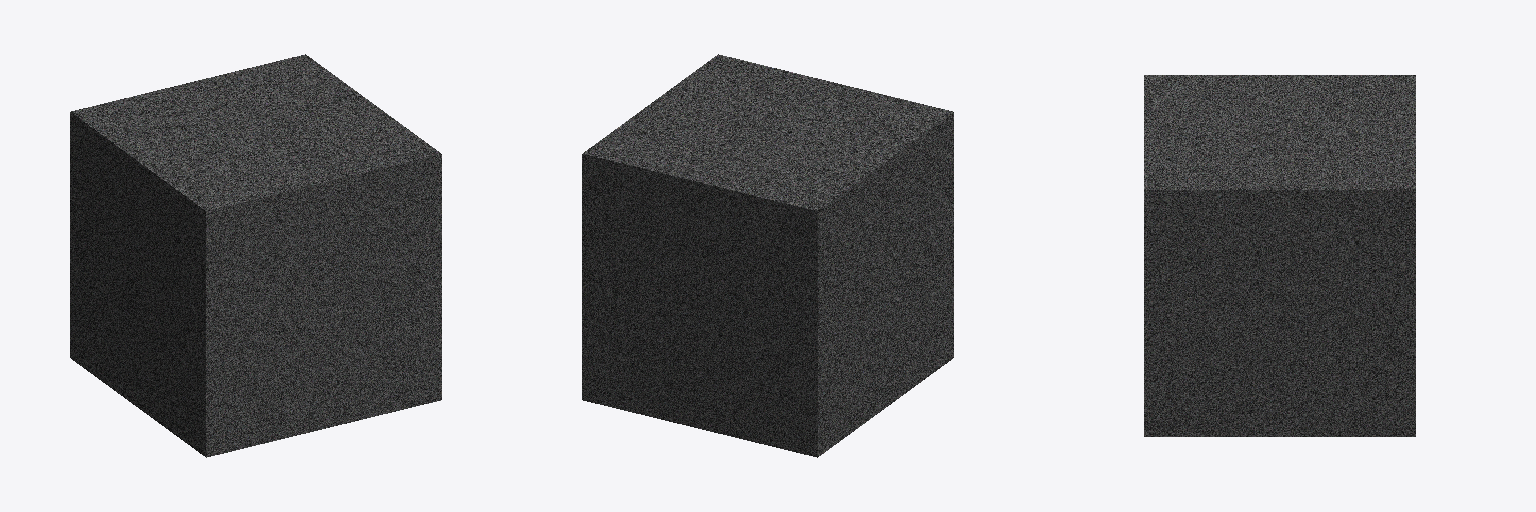
The picture shows the model from 3 angles: view 1: azimuth 30°, elevation 25°; view 2: azimuth 150°, elevation 25°; view 3: azimuth 270°, elevation 25°; orthographic projection.
Parts seen in each view (by area): view 1: 立方体; view 2: 立方体; view 3: 立方体.
Boxes of the visible parts, box(x1,y1,x2,y2) form: 立方体: box(70, 54, 441, 457); 立方体: box(582, 54, 953, 457); 立方体: box(1144, 75, 1415, 436).
Bounding box in the file's own units: 1 × 1 × 1.
Materials: 1 (1 with a texture image).